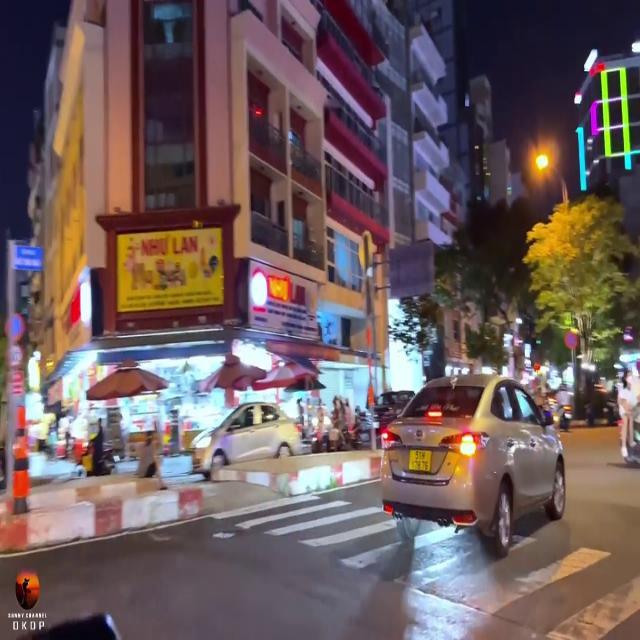bien_vang: (408, 448, 432, 476)
